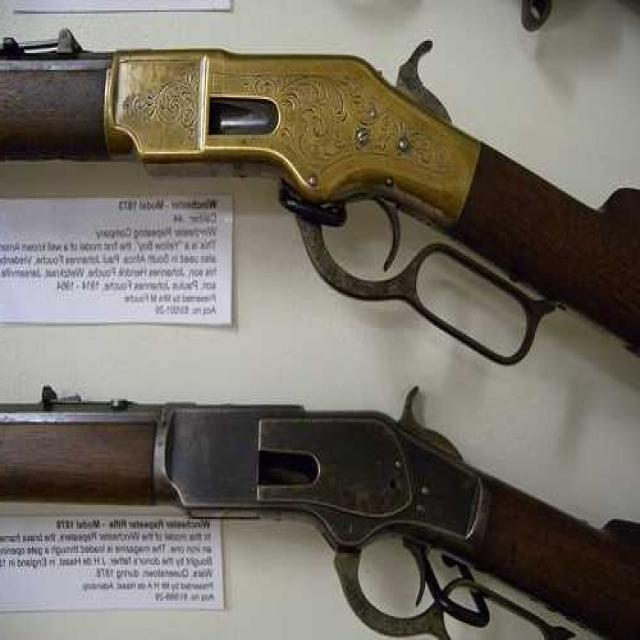heavyweapon: (49, 27, 640, 355), (36, 363, 608, 640)
